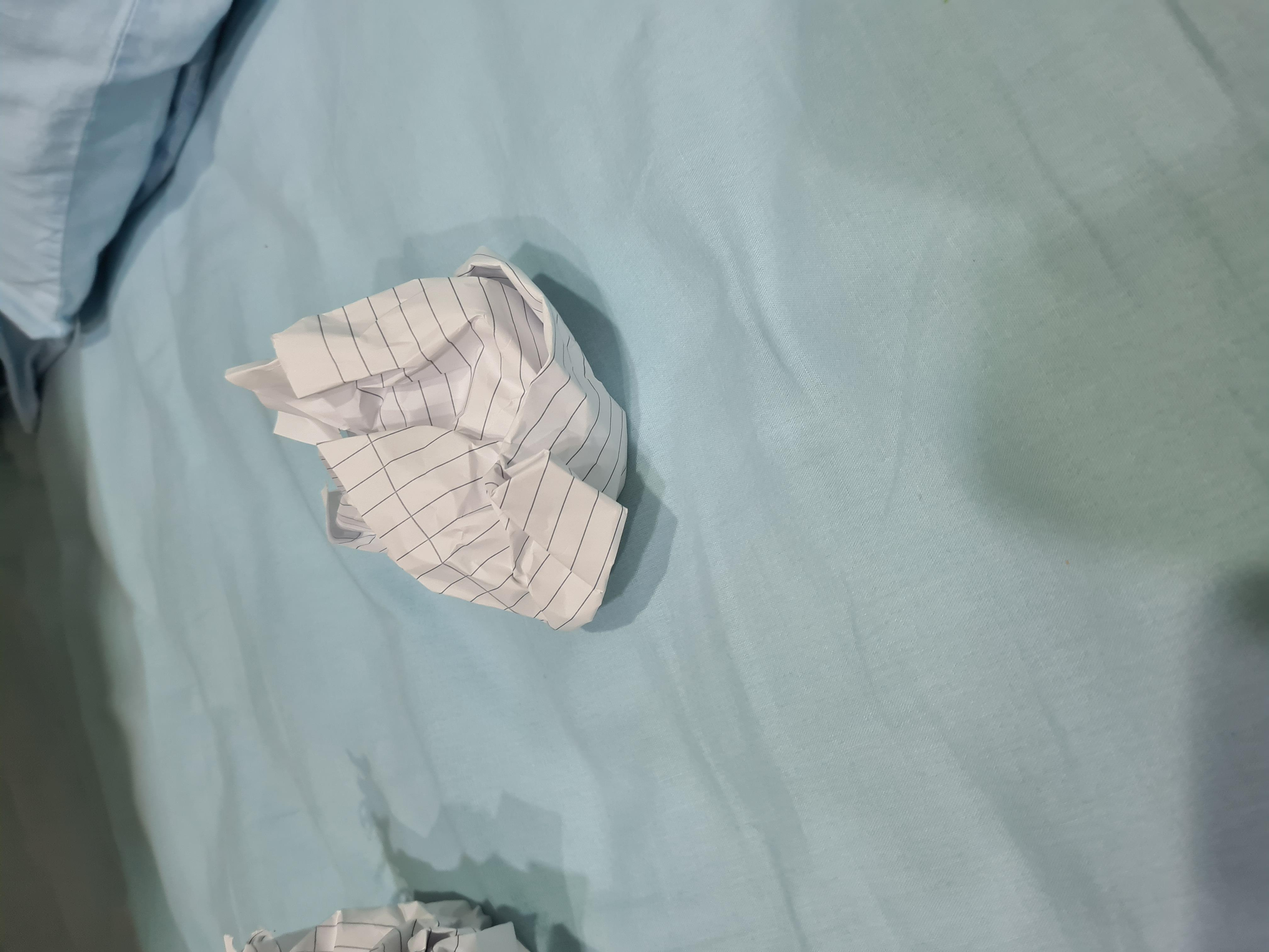paper: (429, 170, 925, 478)
